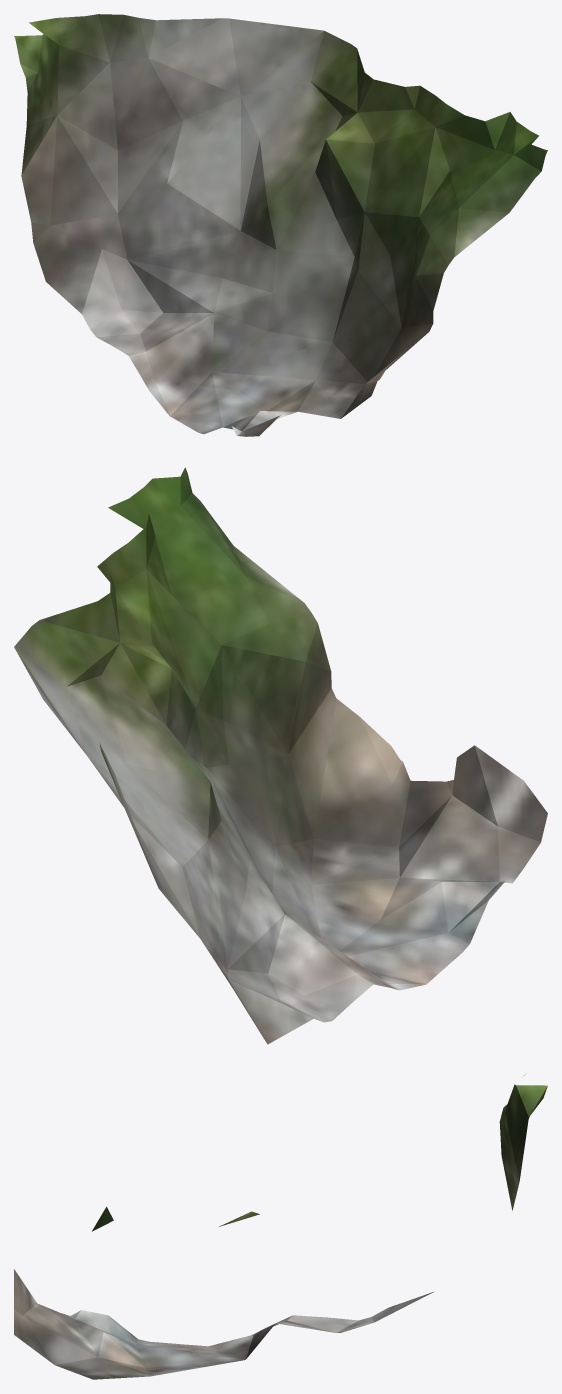
The picture shows the model from 3 angles, top to bottom: view 1: azimuth 30°, elevation 25°; view 2: azimuth 150°, elevation 25°; view 3: azimuth 270°, elevation 25°; orthographic projection. The views are drawn at different scales.
Size of the model in its own units: 6.58 by 5.68 by 10.08.
1 material, 1 textured.
